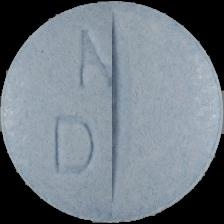51079-959: (0, 0, 224, 224)
